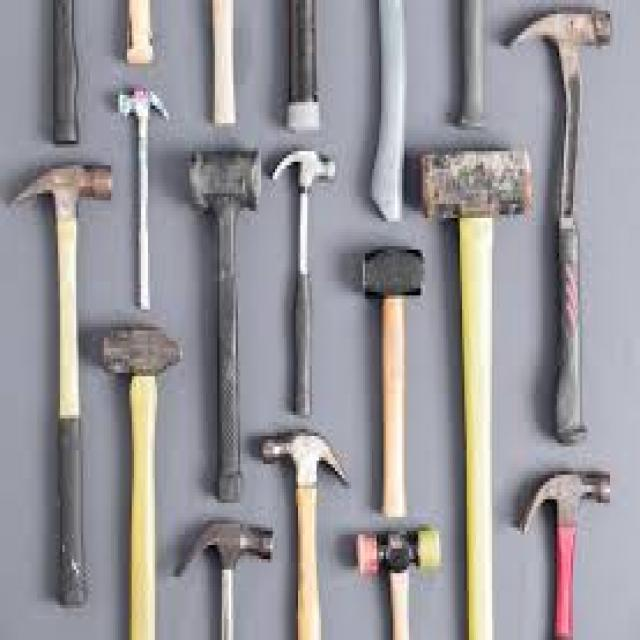hammer: (413, 133, 533, 640), (1, 157, 115, 630), (504, 4, 614, 450), (184, 133, 267, 504), (95, 322, 183, 640), (353, 234, 431, 530), (260, 410, 352, 640), (266, 136, 341, 413), (514, 454, 625, 640), (110, 84, 173, 316), (174, 508, 280, 640), (349, 517, 452, 640)
